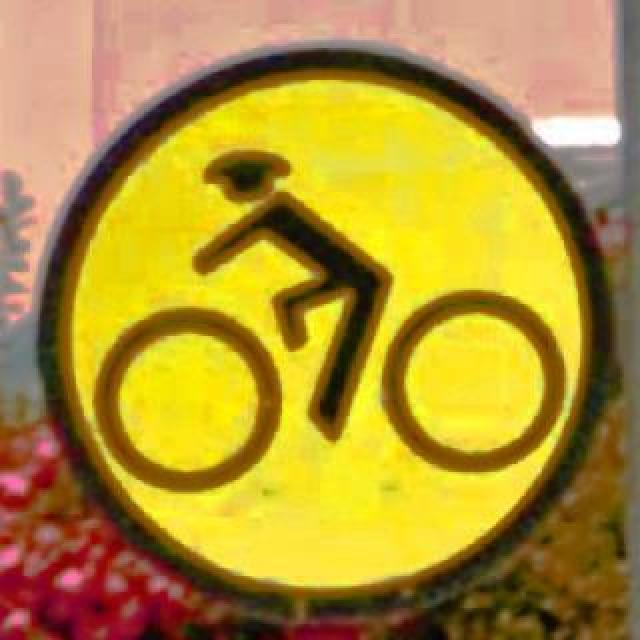bike lane: (32, 44, 612, 616)
